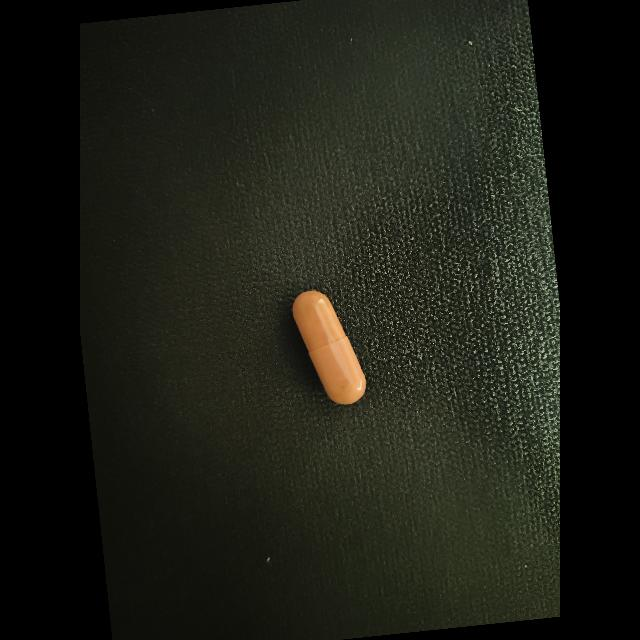Intact Capsule: (293, 291, 366, 404)
